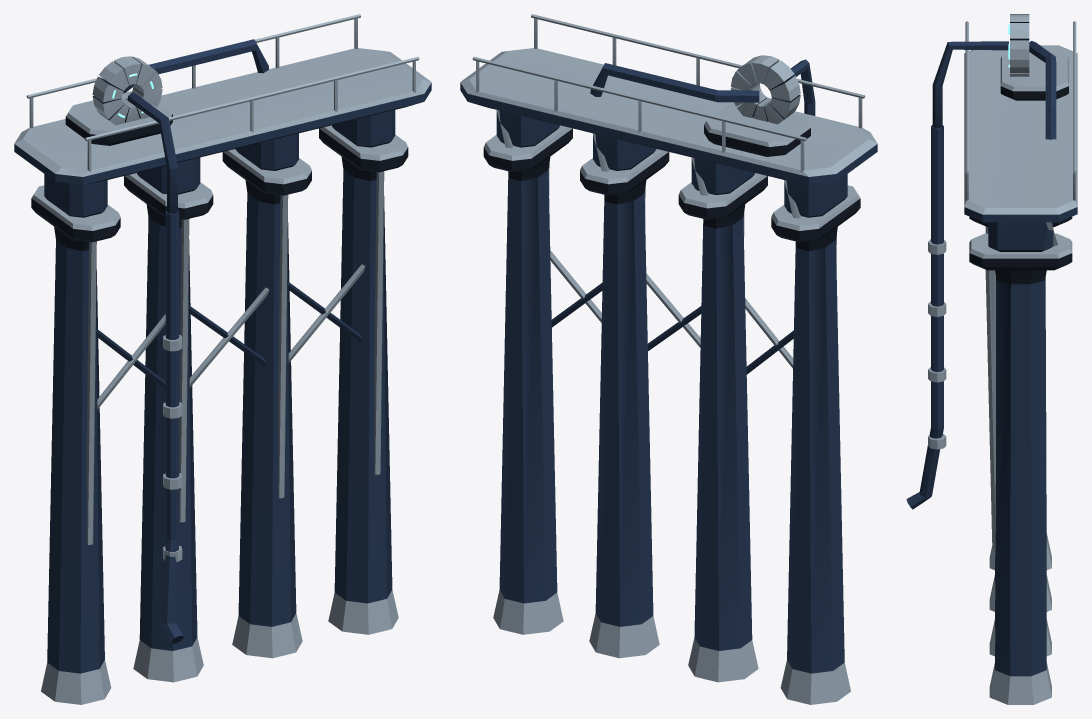
Rendered from grotto-pump-causeway.glb.
The picture shows the model from 3 angles, left to right: view 1: azimuth 30°, elevation 25°; view 2: azimuth 150°, elevation 25°; view 3: azimuth 270°, elevation 25°; orthographic projection. The views are drawn at different scales.
Visible parts, largest first — view 1: grotto-pump-causeway; view 2: grotto-pump-causeway; view 3: grotto-pump-causeway.
Part boxes in pixels (x1=…): grotto-pump-causeway: x1=14, y1=14, x2=431, y2=704; grotto-pump-causeway: x1=460, y1=14, x2=877, y2=704; grotto-pump-causeway: x1=906, y1=14, x2=1077, y2=704.
Size of the model in its own units: 9.48 by 14.85 by 4.05.
